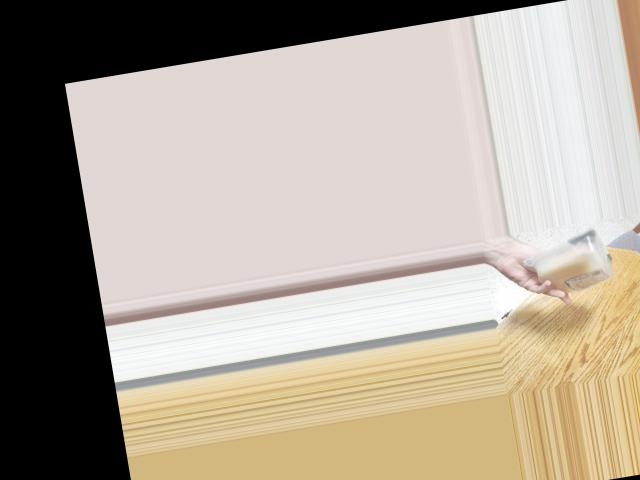cheese: (528, 227, 619, 301)
